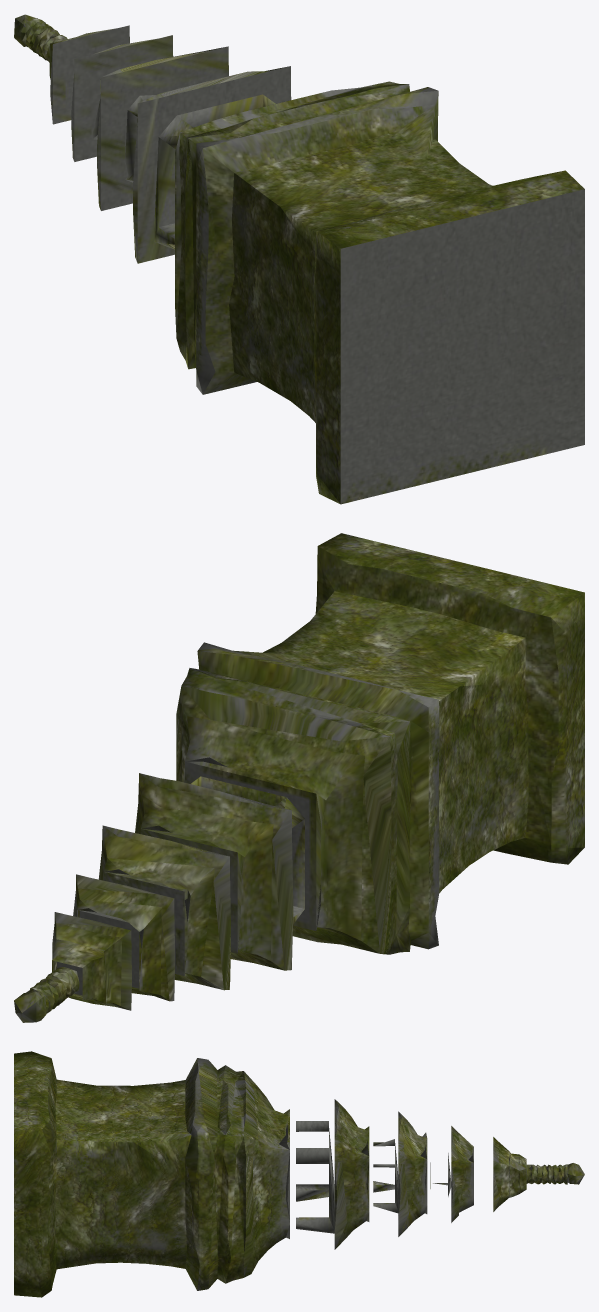
Rendered from StreetLight@3.fbx.
3 renders of one model, top to bottom at view 1: azimuth 30°, elevation 25°; view 2: azimuth 150°, elevation 25°; view 3: azimuth 270°, elevation 25°, orthographic. The views are drawn at different scales.
Visible parts, largest first — view 1: Stone_Lantern_2; view 2: Stone_Lantern_2; view 3: Stone_Lantern_2.
Part boxes in pixels (x1,y1,x2,y2): Stone_Lantern_2: [14, 14, 584, 504]; Stone_Lantern_2: [14, 533, 584, 1022]; Stone_Lantern_2: [14, 1051, 584, 1297].
Bounding box in the file's own units: 54.16 × 54.17 × 166.
Materials: 1 (1 with a texture image).
